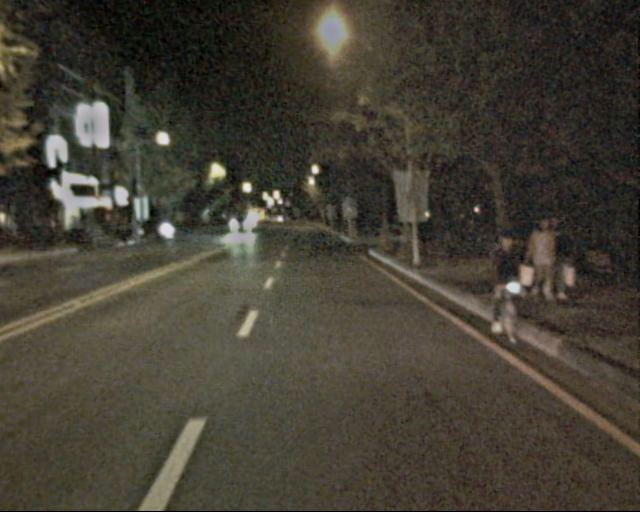person: (481, 230, 527, 326), (523, 218, 561, 302), (538, 219, 575, 298)
